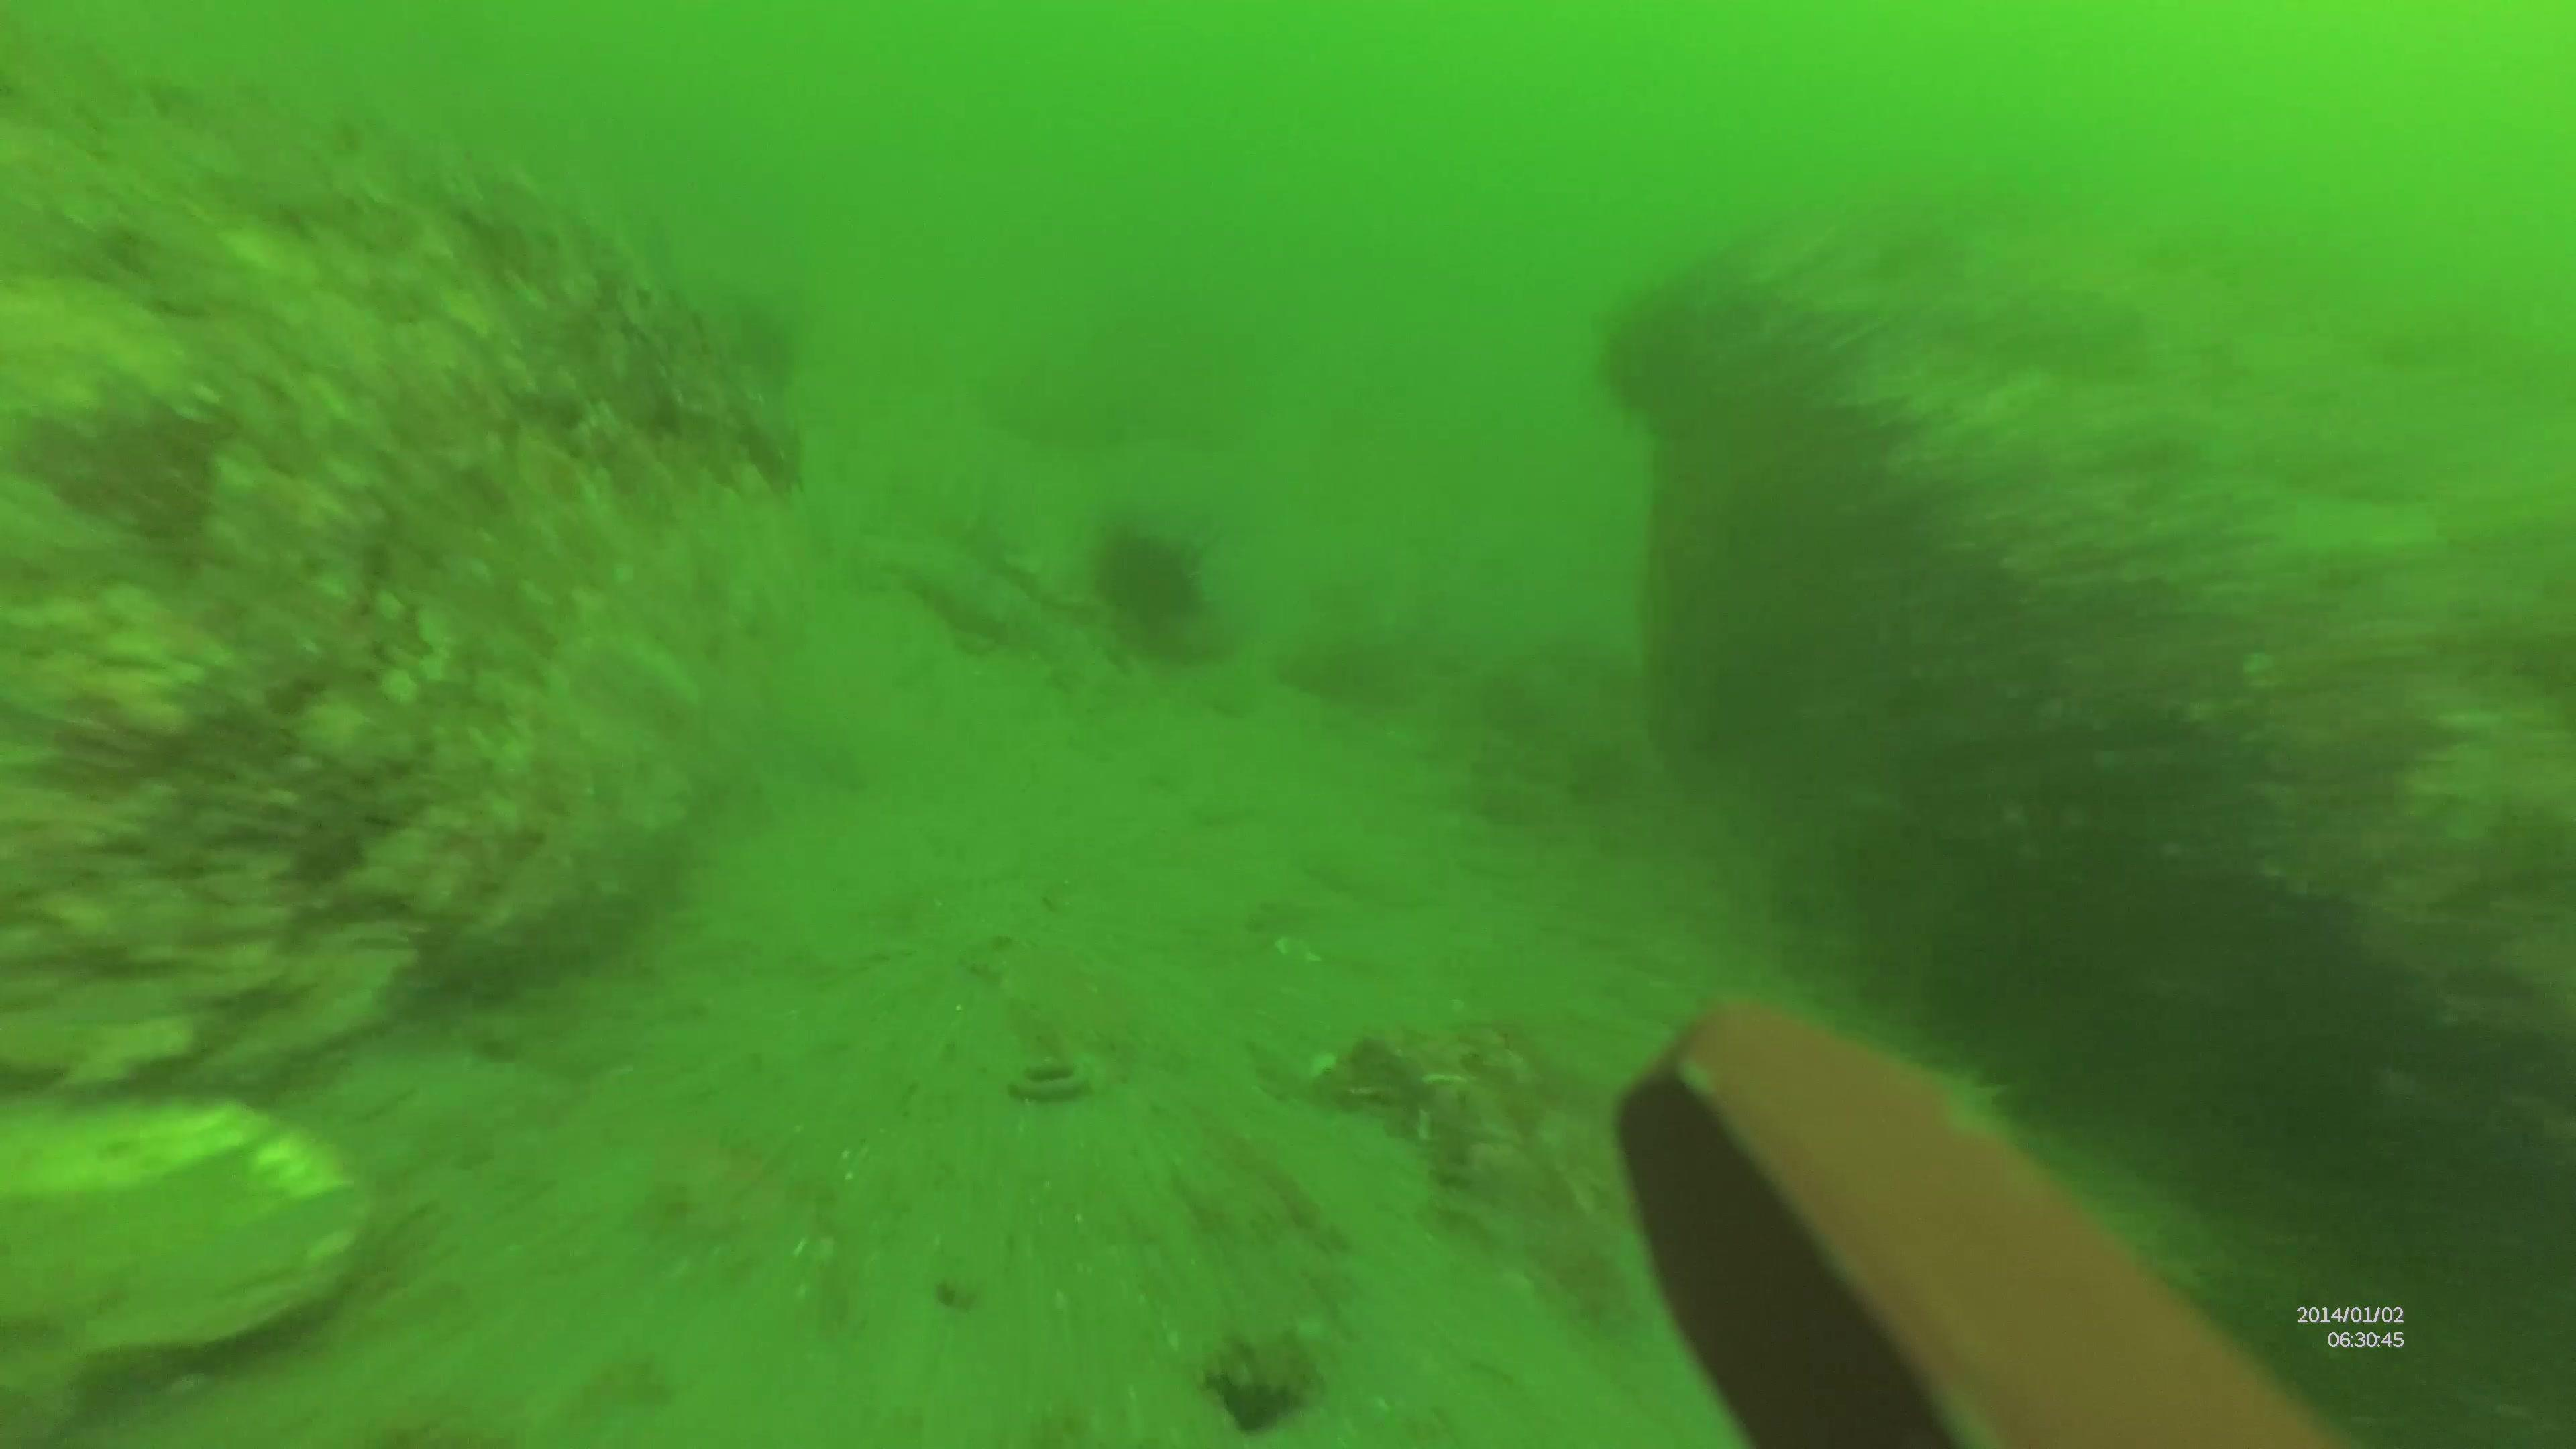echinus: (1083, 518, 1208, 644)
scallop: (4, 1079, 372, 1399)
